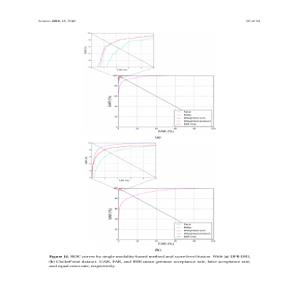diagram: (79, 27, 227, 250)
text: (43, 253, 257, 271)
